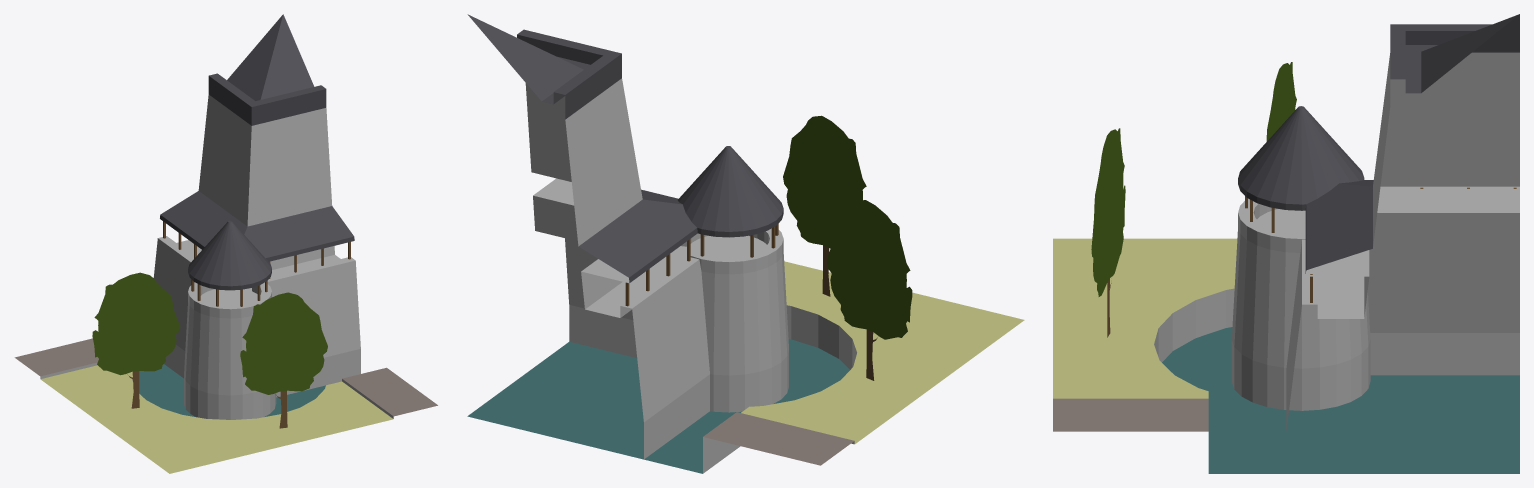
File: rcrw.obj
3 renders of one model, left to right at view 1: azimuth 30°, elevation 25°; view 2: azimuth 150°, elevation 25°; view 3: azimuth 270°, elevation 25°, orthographic. The views are drawn at different scales.
Parts seen in each view (by area): view 1: rcrw; view 2: rcrw; view 3: rcrw.
Boxes of the visible parts, box(x1,y1,x2,y2) form: rcrw: box(14, 14, 437, 473); rcrw: box(467, 14, 1024, 473); rcrw: box(1053, 14, 1519, 473).
Size of the model in its own units: 30 by 32.63 by 30.
